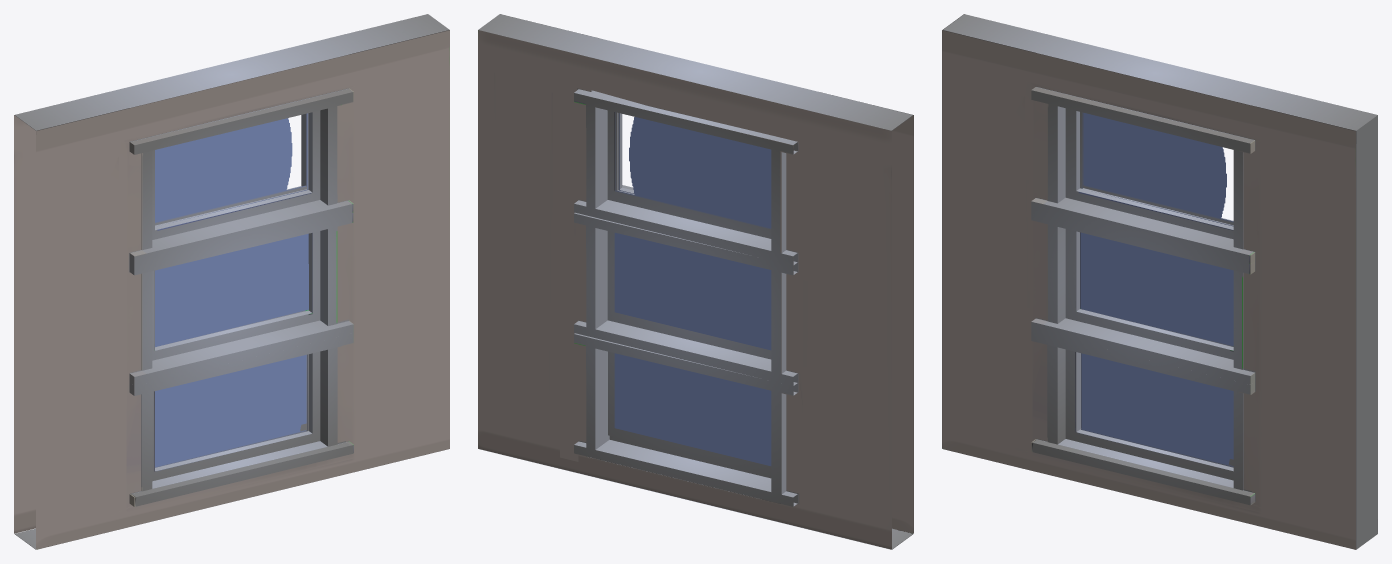
File: Hub_stairs_window_type1.FBX
3 views of the same model, side by side, from view 1: azimuth 30°, elevation 25°; view 2: azimuth 150°, elevation 25°; view 3: azimuth 330°, elevation 25° (orthographic).
Visible parts, largest first — view 1: Hub_stairs_window_type1_003; view 2: Hub_stairs_window_type1_003; view 3: Hub_stairs_window_type1_003.
Boxes of the visible parts, <box> form: Hub_stairs_window_type1_003: <box>14,14,449,549</box>; Hub_stairs_window_type1_003: <box>478,14,913,549</box>; Hub_stairs_window_type1_003: <box>942,14,1377,549</box>.
Bounding box in the file's own units: 723 × 699 × 94.36.
Materials: 1 (1 with a texture image).
